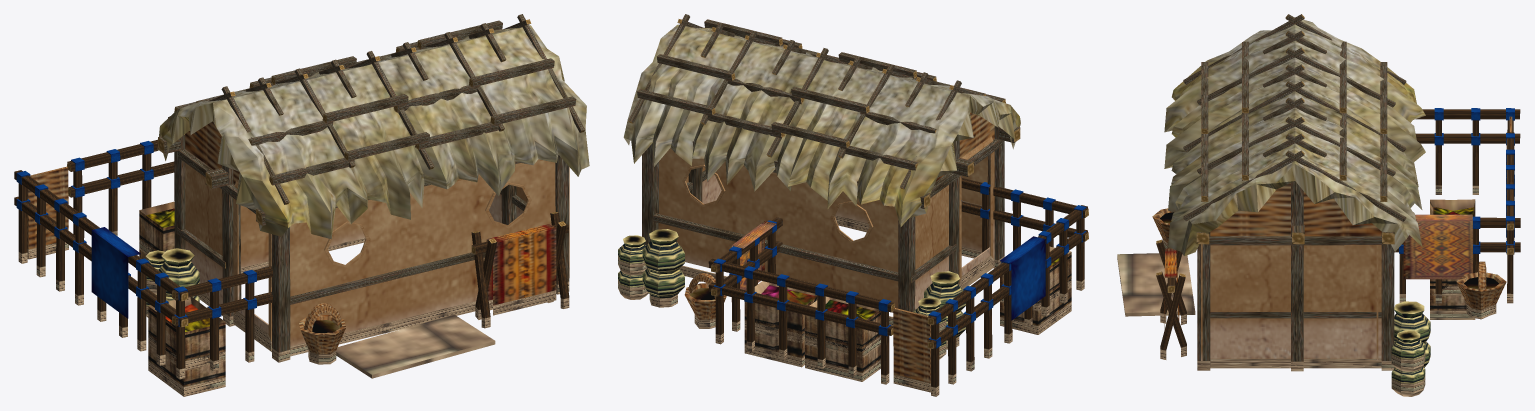
The model's file is house_1.dae.
3 views of the same model, side by side, from view 1: azimuth 30°, elevation 25°; view 2: azimuth 150°, elevation 25°; view 3: azimuth 270°, elevation 25° (orthographic). The views are drawn at different scales.
Visible parts, largest first — view 1: house_1; view 2: house_1; view 3: house_1.
Boxes of the visible parts, x1,y1,x2,y2 form: house_1: (14,14,589,396); house_1: (618,14,1088,396); house_1: (1117,14,1520,396).
Size of the model in its own units: 15.53 by 13.8 by 9.2.
